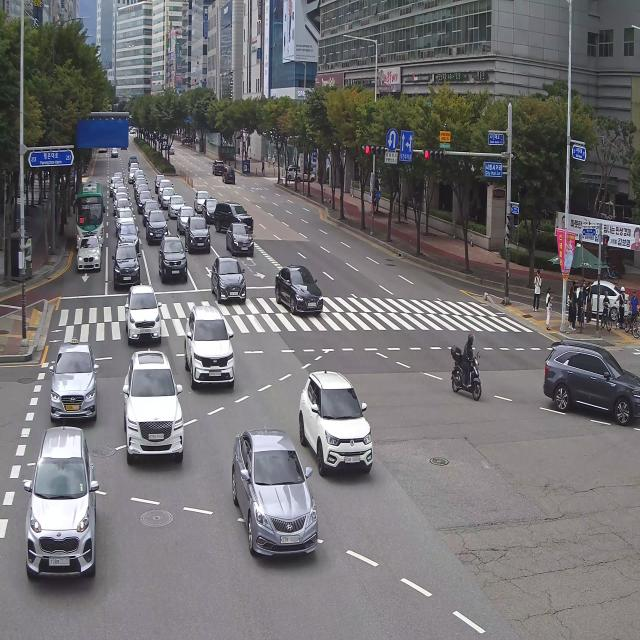Bus: (74, 181, 106, 253)
Car: (23, 411, 102, 601), (225, 421, 322, 565), (294, 359, 387, 499), (112, 336, 196, 483), (533, 331, 640, 435), (36, 320, 100, 430), (184, 294, 237, 392), (271, 253, 331, 321), (118, 274, 165, 346), (208, 255, 249, 308), (156, 232, 191, 289), (107, 240, 145, 292), (184, 212, 213, 258), (224, 222, 257, 258), (72, 233, 102, 272), (145, 208, 170, 246), (115, 222, 141, 254), (167, 192, 187, 220), (208, 156, 225, 178), (220, 165, 238, 185), (110, 146, 120, 159)
Motorcycle: (444, 325, 486, 415)
